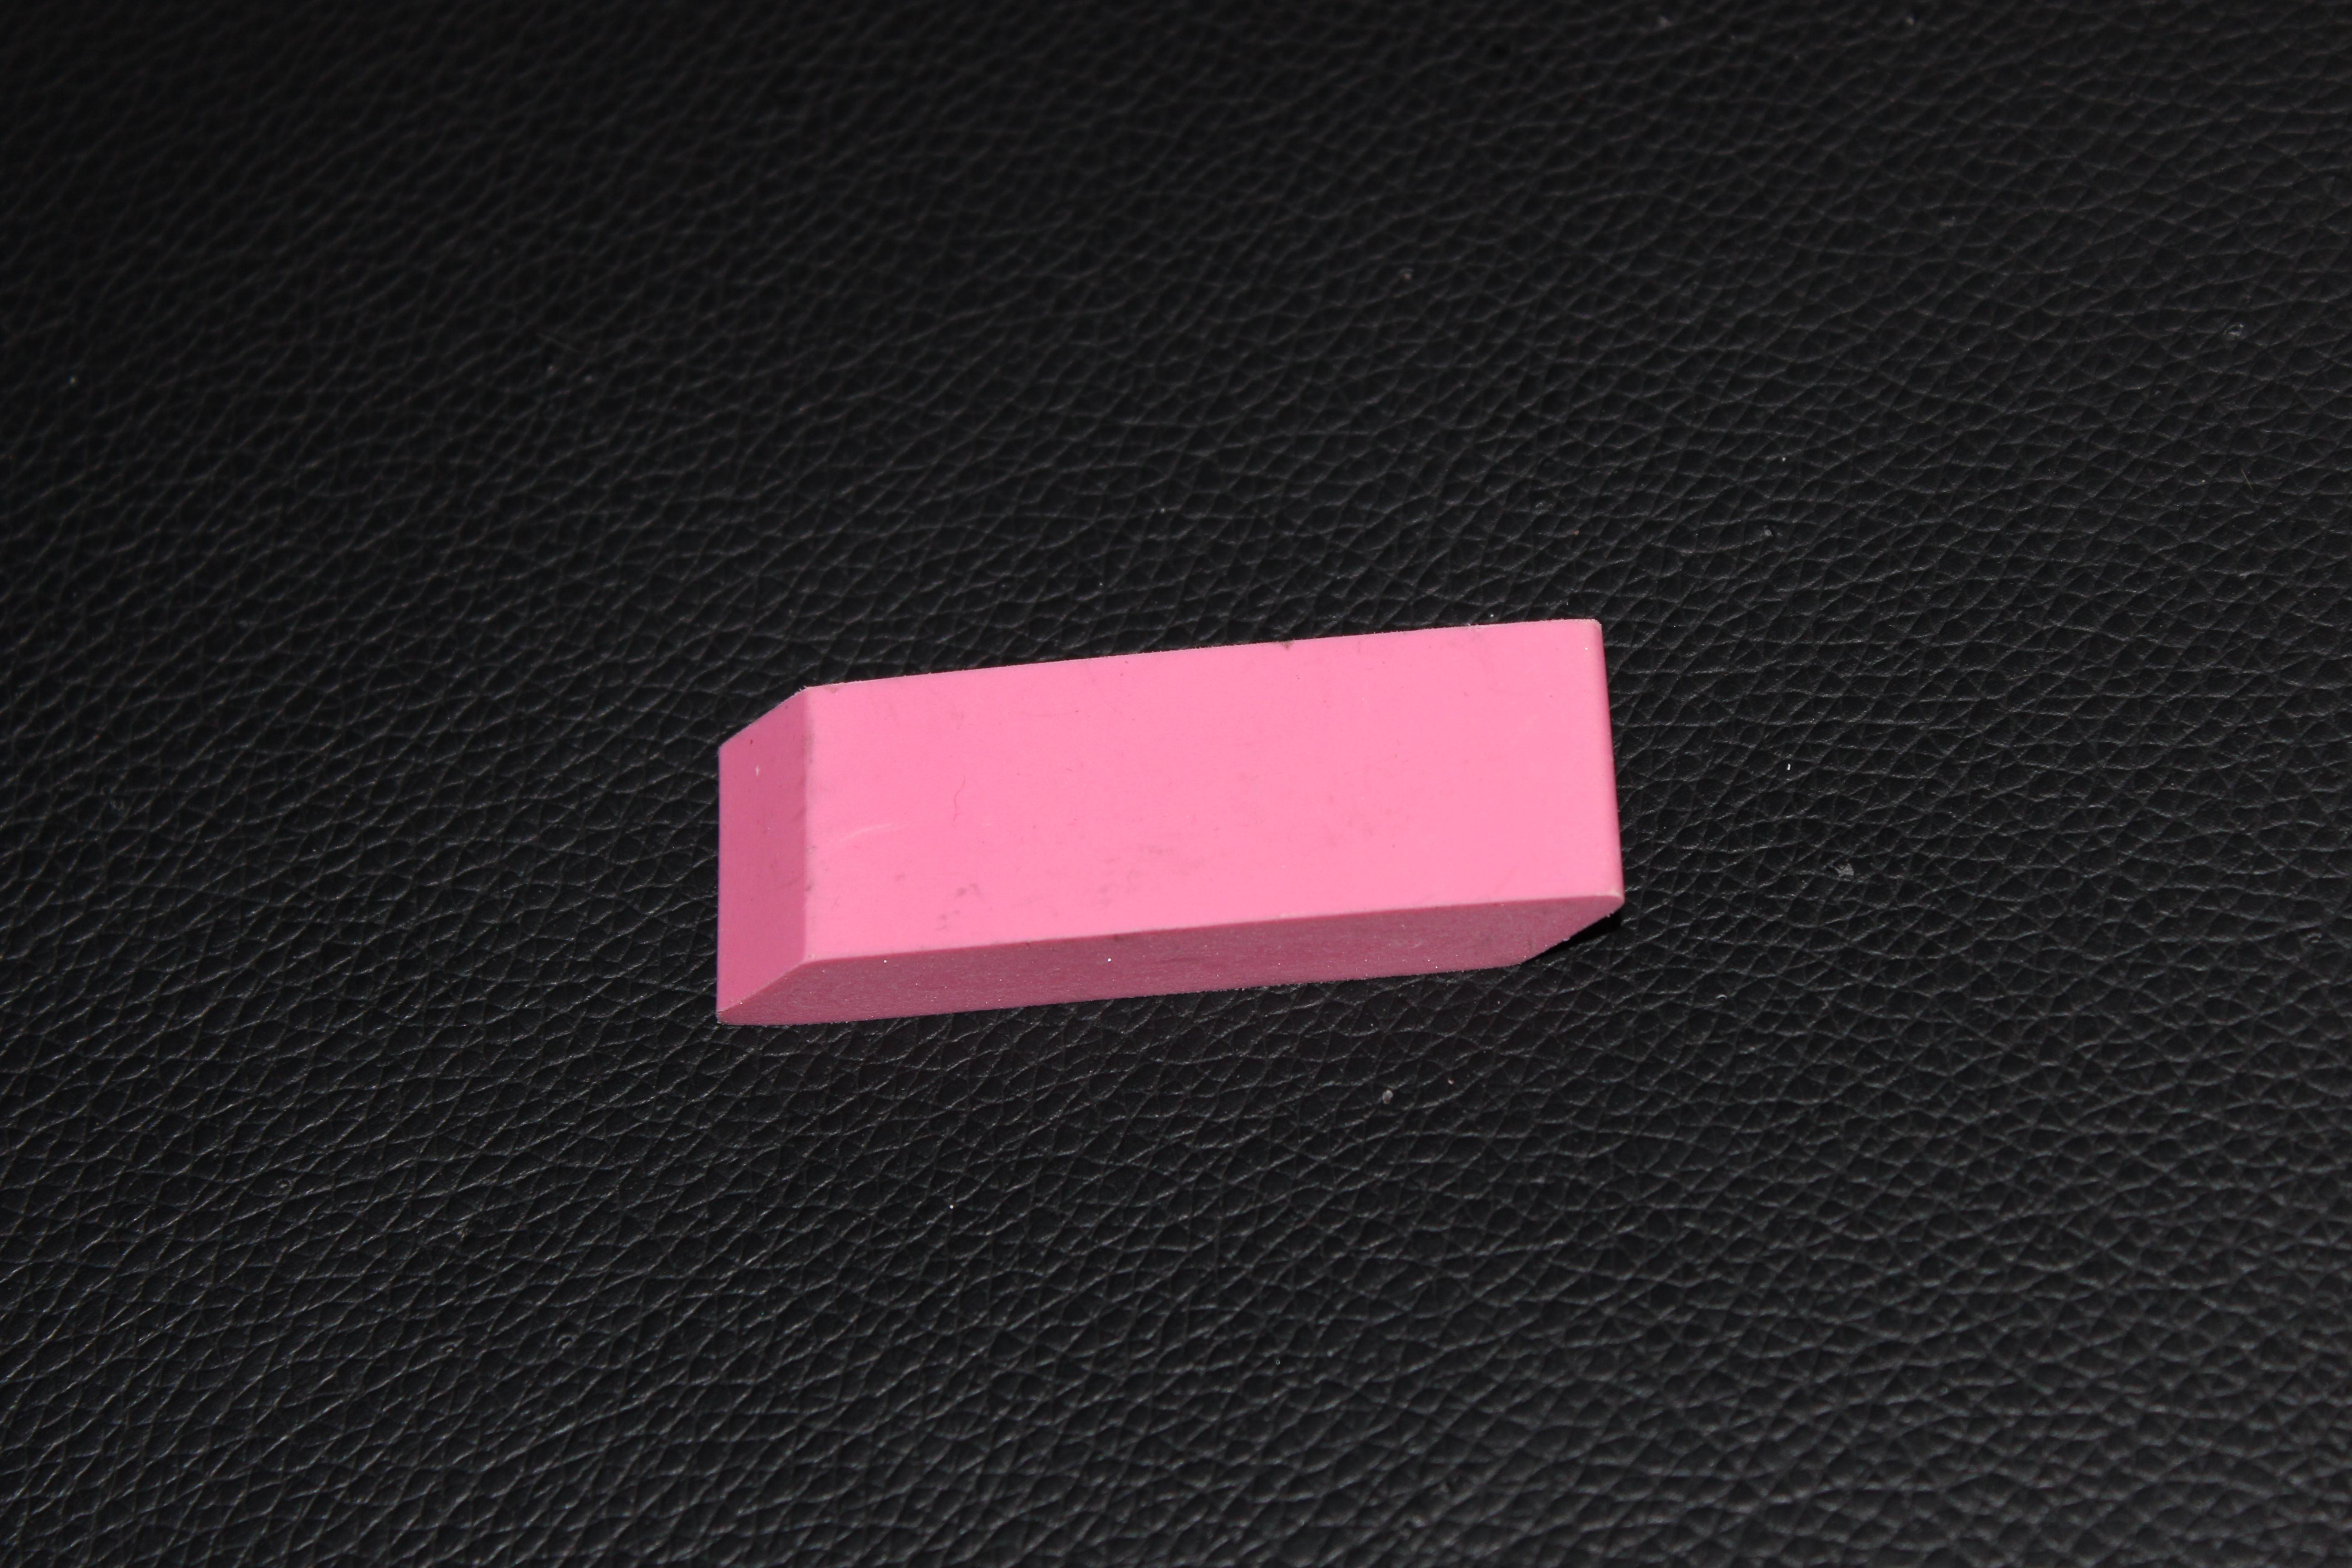pinkEraser: (675, 597, 1666, 1055)
